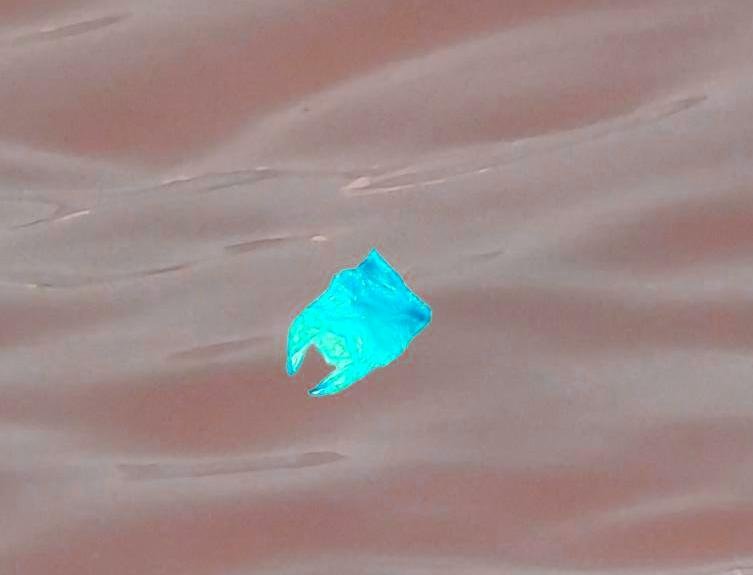Trash: (285, 246, 433, 399)
